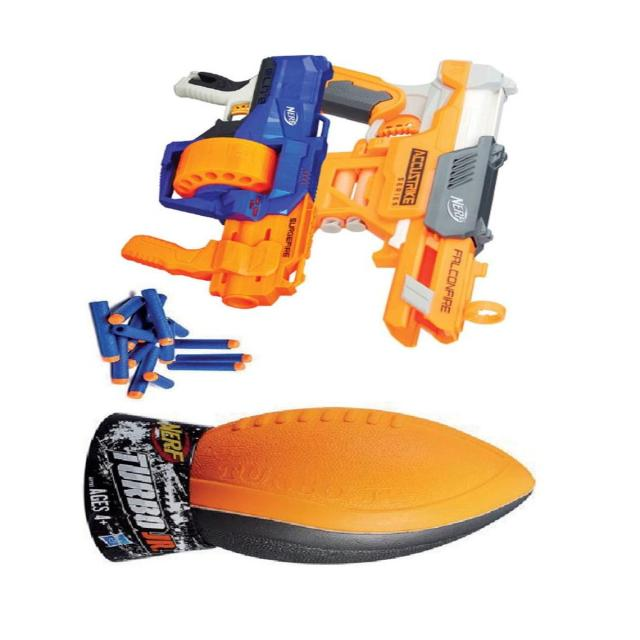Nerf gun: (304, 49, 529, 355), (113, 49, 340, 315)
